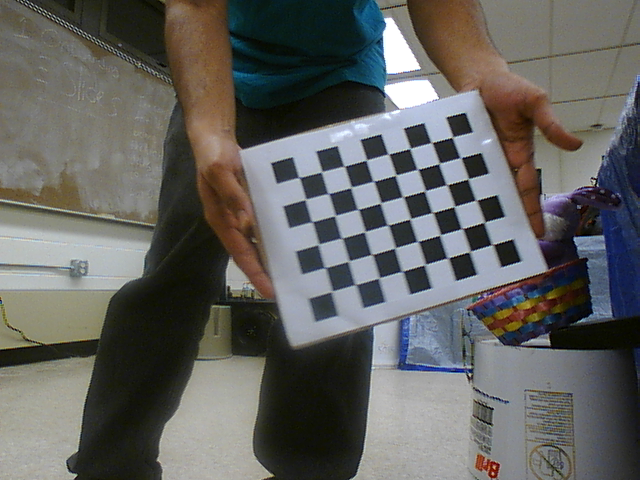bunny: (476, 179, 612, 352)
